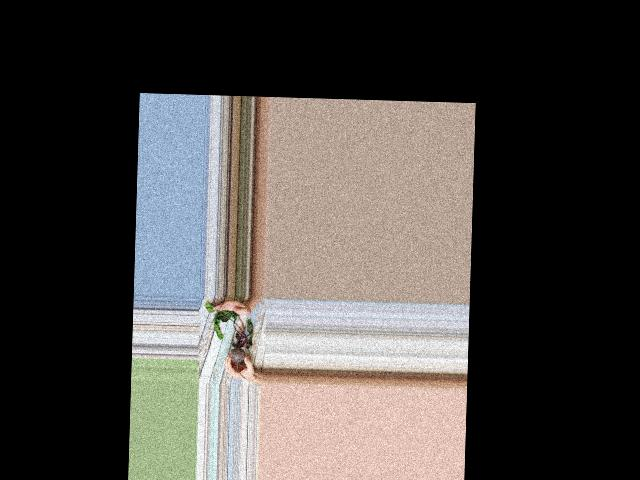beet: (203, 301, 253, 379)
